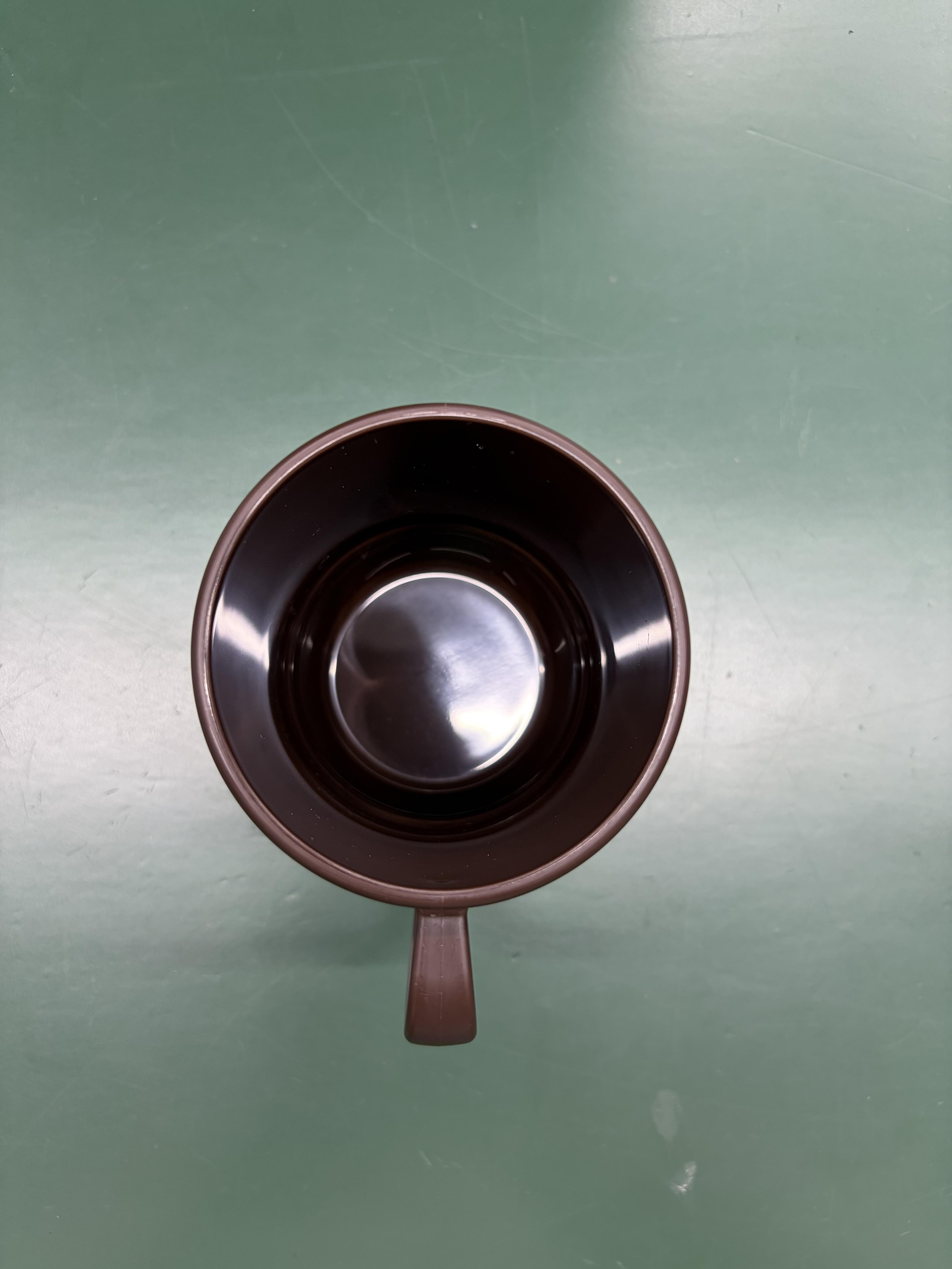mug-real100-3d100: (192, 403, 690, 1046)
